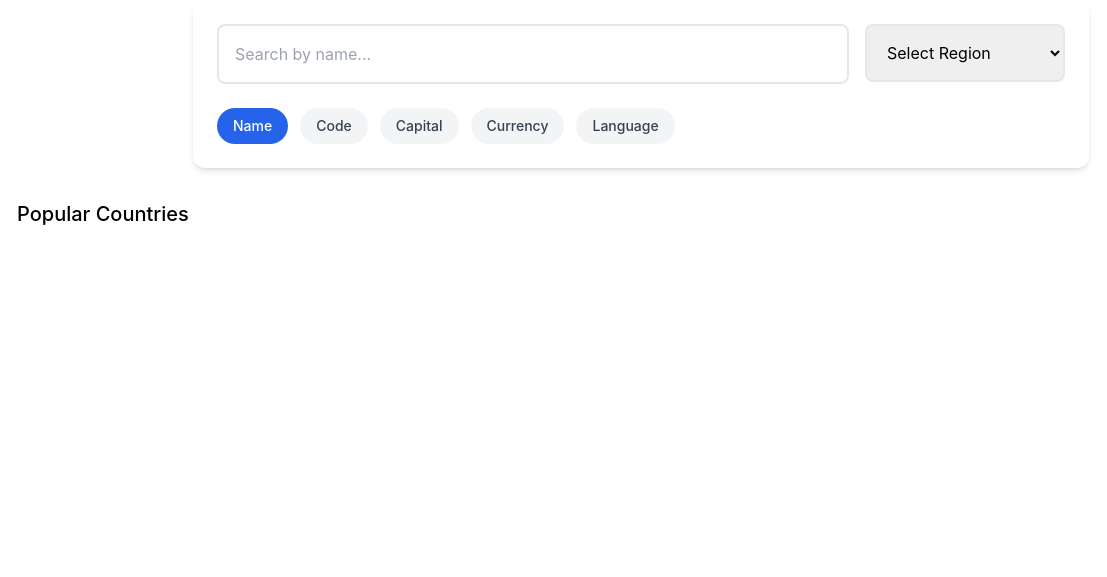
Scenario: SearchPage › searches countries by name and shows result
Step 1. Type "test" into the field with placeholder "Search by name..." → (533, 54), box [217,24,849,84]
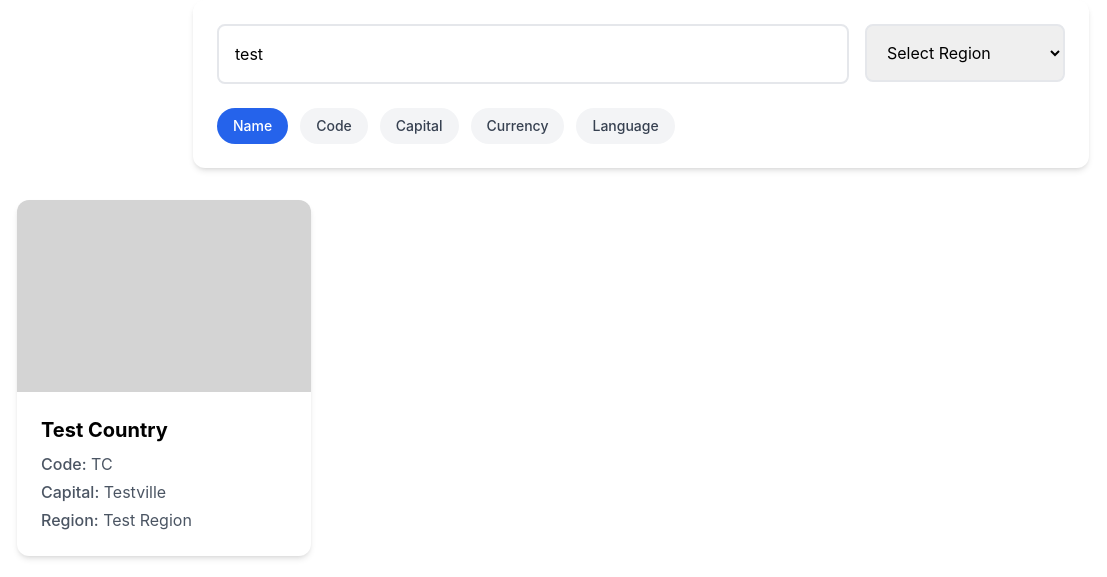
Result: the heading "Test Country" is shown at [41,418,168,442]
